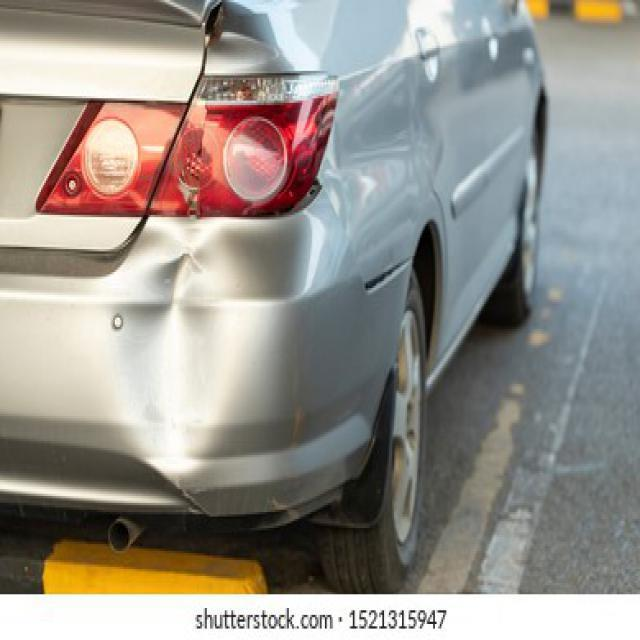rear-bumper-dent: (108, 231, 248, 482)
